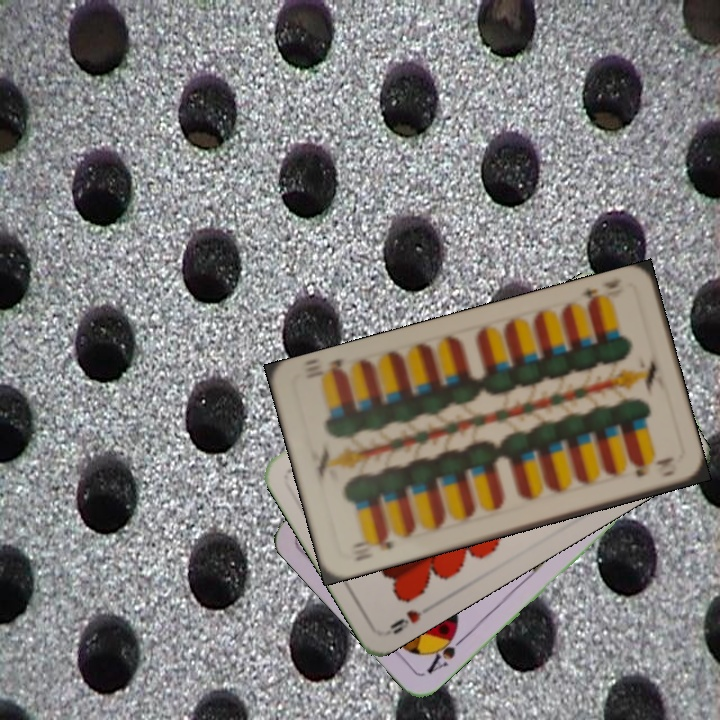E10: (577, 274, 625, 312), (349, 531, 398, 559)
H9: (385, 605, 424, 637)
SA: (423, 625, 469, 677)
